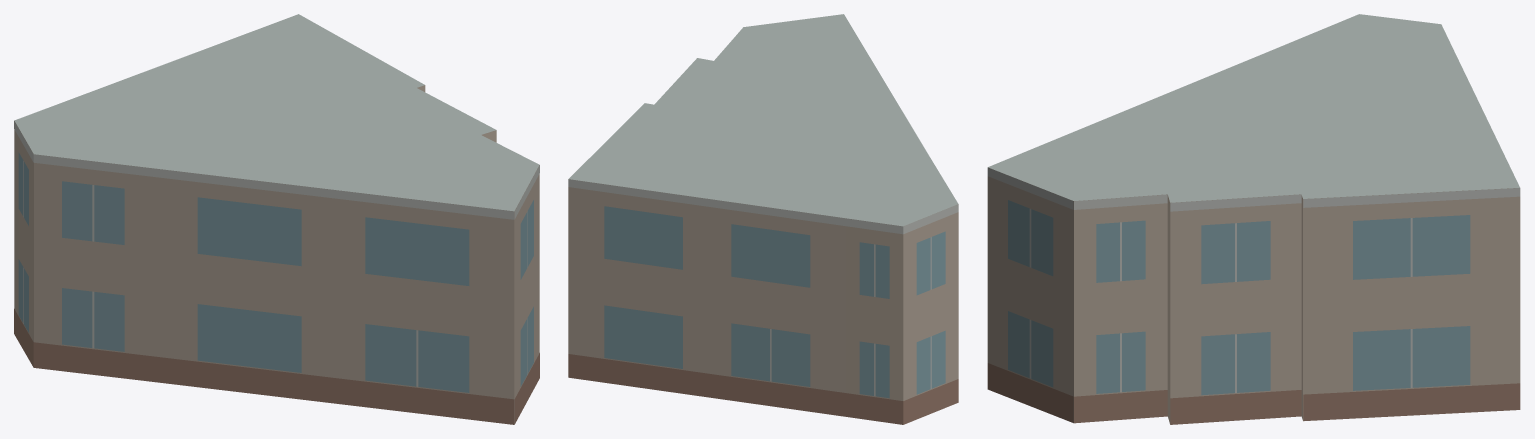
File: survey-upis-33045593.glb
3 views of the same model, side by side, from view 1: azimuth 30°, elevation 25°; view 2: azimuth 150°, elevation 25°; view 3: azimuth 270°, elevation 25° (orthographic). The views are drawn at different scales.
Visible parts, largest first — view 1: survey-upis-33045593.tmp; view 2: survey-upis-33045593.tmp; view 3: survey-upis-33045593.tmp.
Part boxes in pixels (bbox=[...]): survey-upis-33045593.tmp: bbox=[14, 14, 539, 424]; survey-upis-33045593.tmp: bbox=[568, 14, 958, 424]; survey-upis-33045593.tmp: bbox=[987, 14, 1520, 424].
Bounding box in the file's own units: 11.13 × 6.1 × 13.27.
